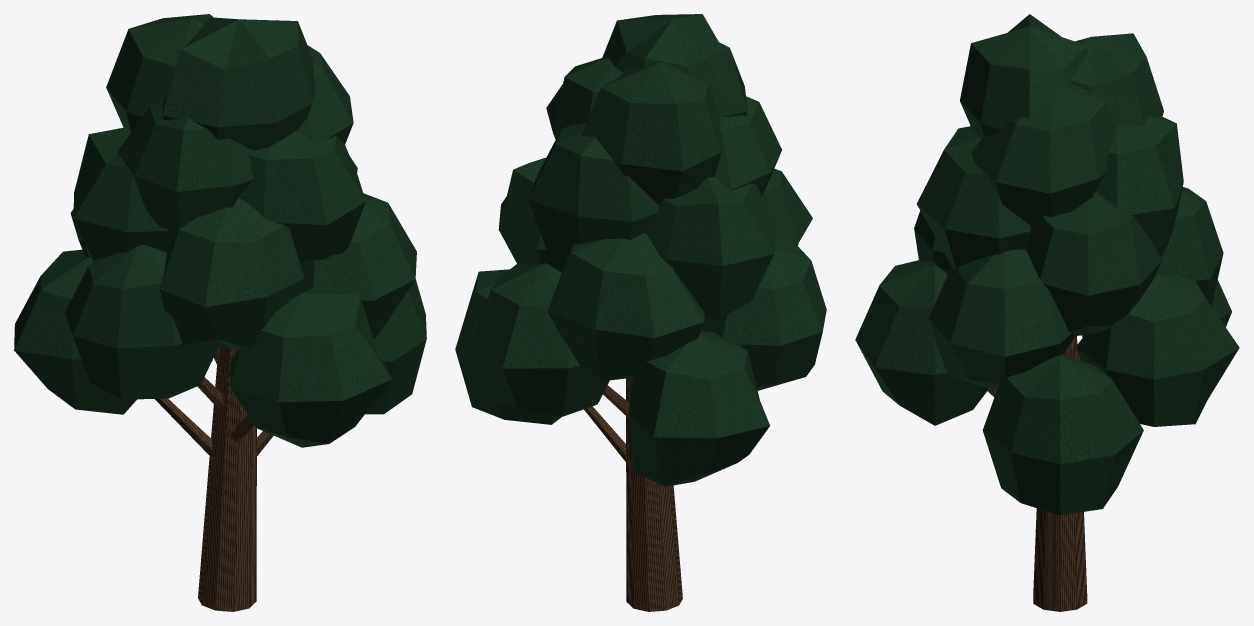
Rendered from tree_redwood_01.fbx.
3 renders of one model, left to right at view 1: azimuth 30°, elevation 25°; view 2: azimuth 150°, elevation 25°; view 3: azimuth 270°, elevation 25°, orthographic. The views are drawn at different scales.
Visible parts, largest first — view 1: tree_redwood_01_LOD0; view 2: tree_redwood_01_LOD0; view 3: tree_redwood_01_LOD0.
Boxes of the visible parts, left/top/right/bottom form: tree_redwood_01_LOD0: left=14, top=14, right=426, bottom=611; tree_redwood_01_LOD0: left=455, top=14, right=826, bottom=611; tree_redwood_01_LOD0: left=855, top=14, right=1239, bottom=611.
Size of what is drawn, in the model's own units: 0.6441 by 1 by 0.6093.
